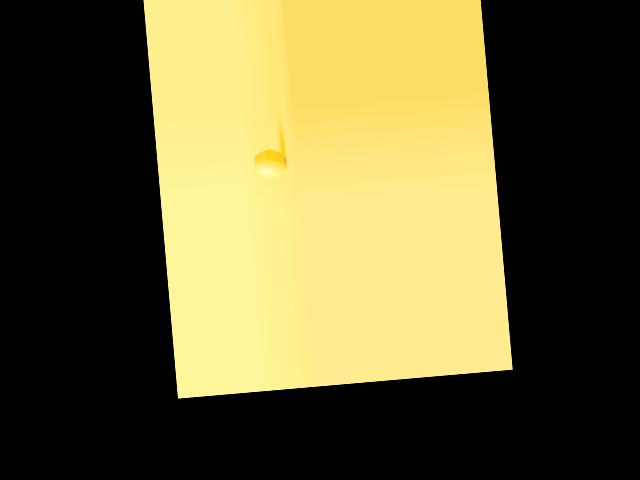lemon: (248, 145, 288, 187)
